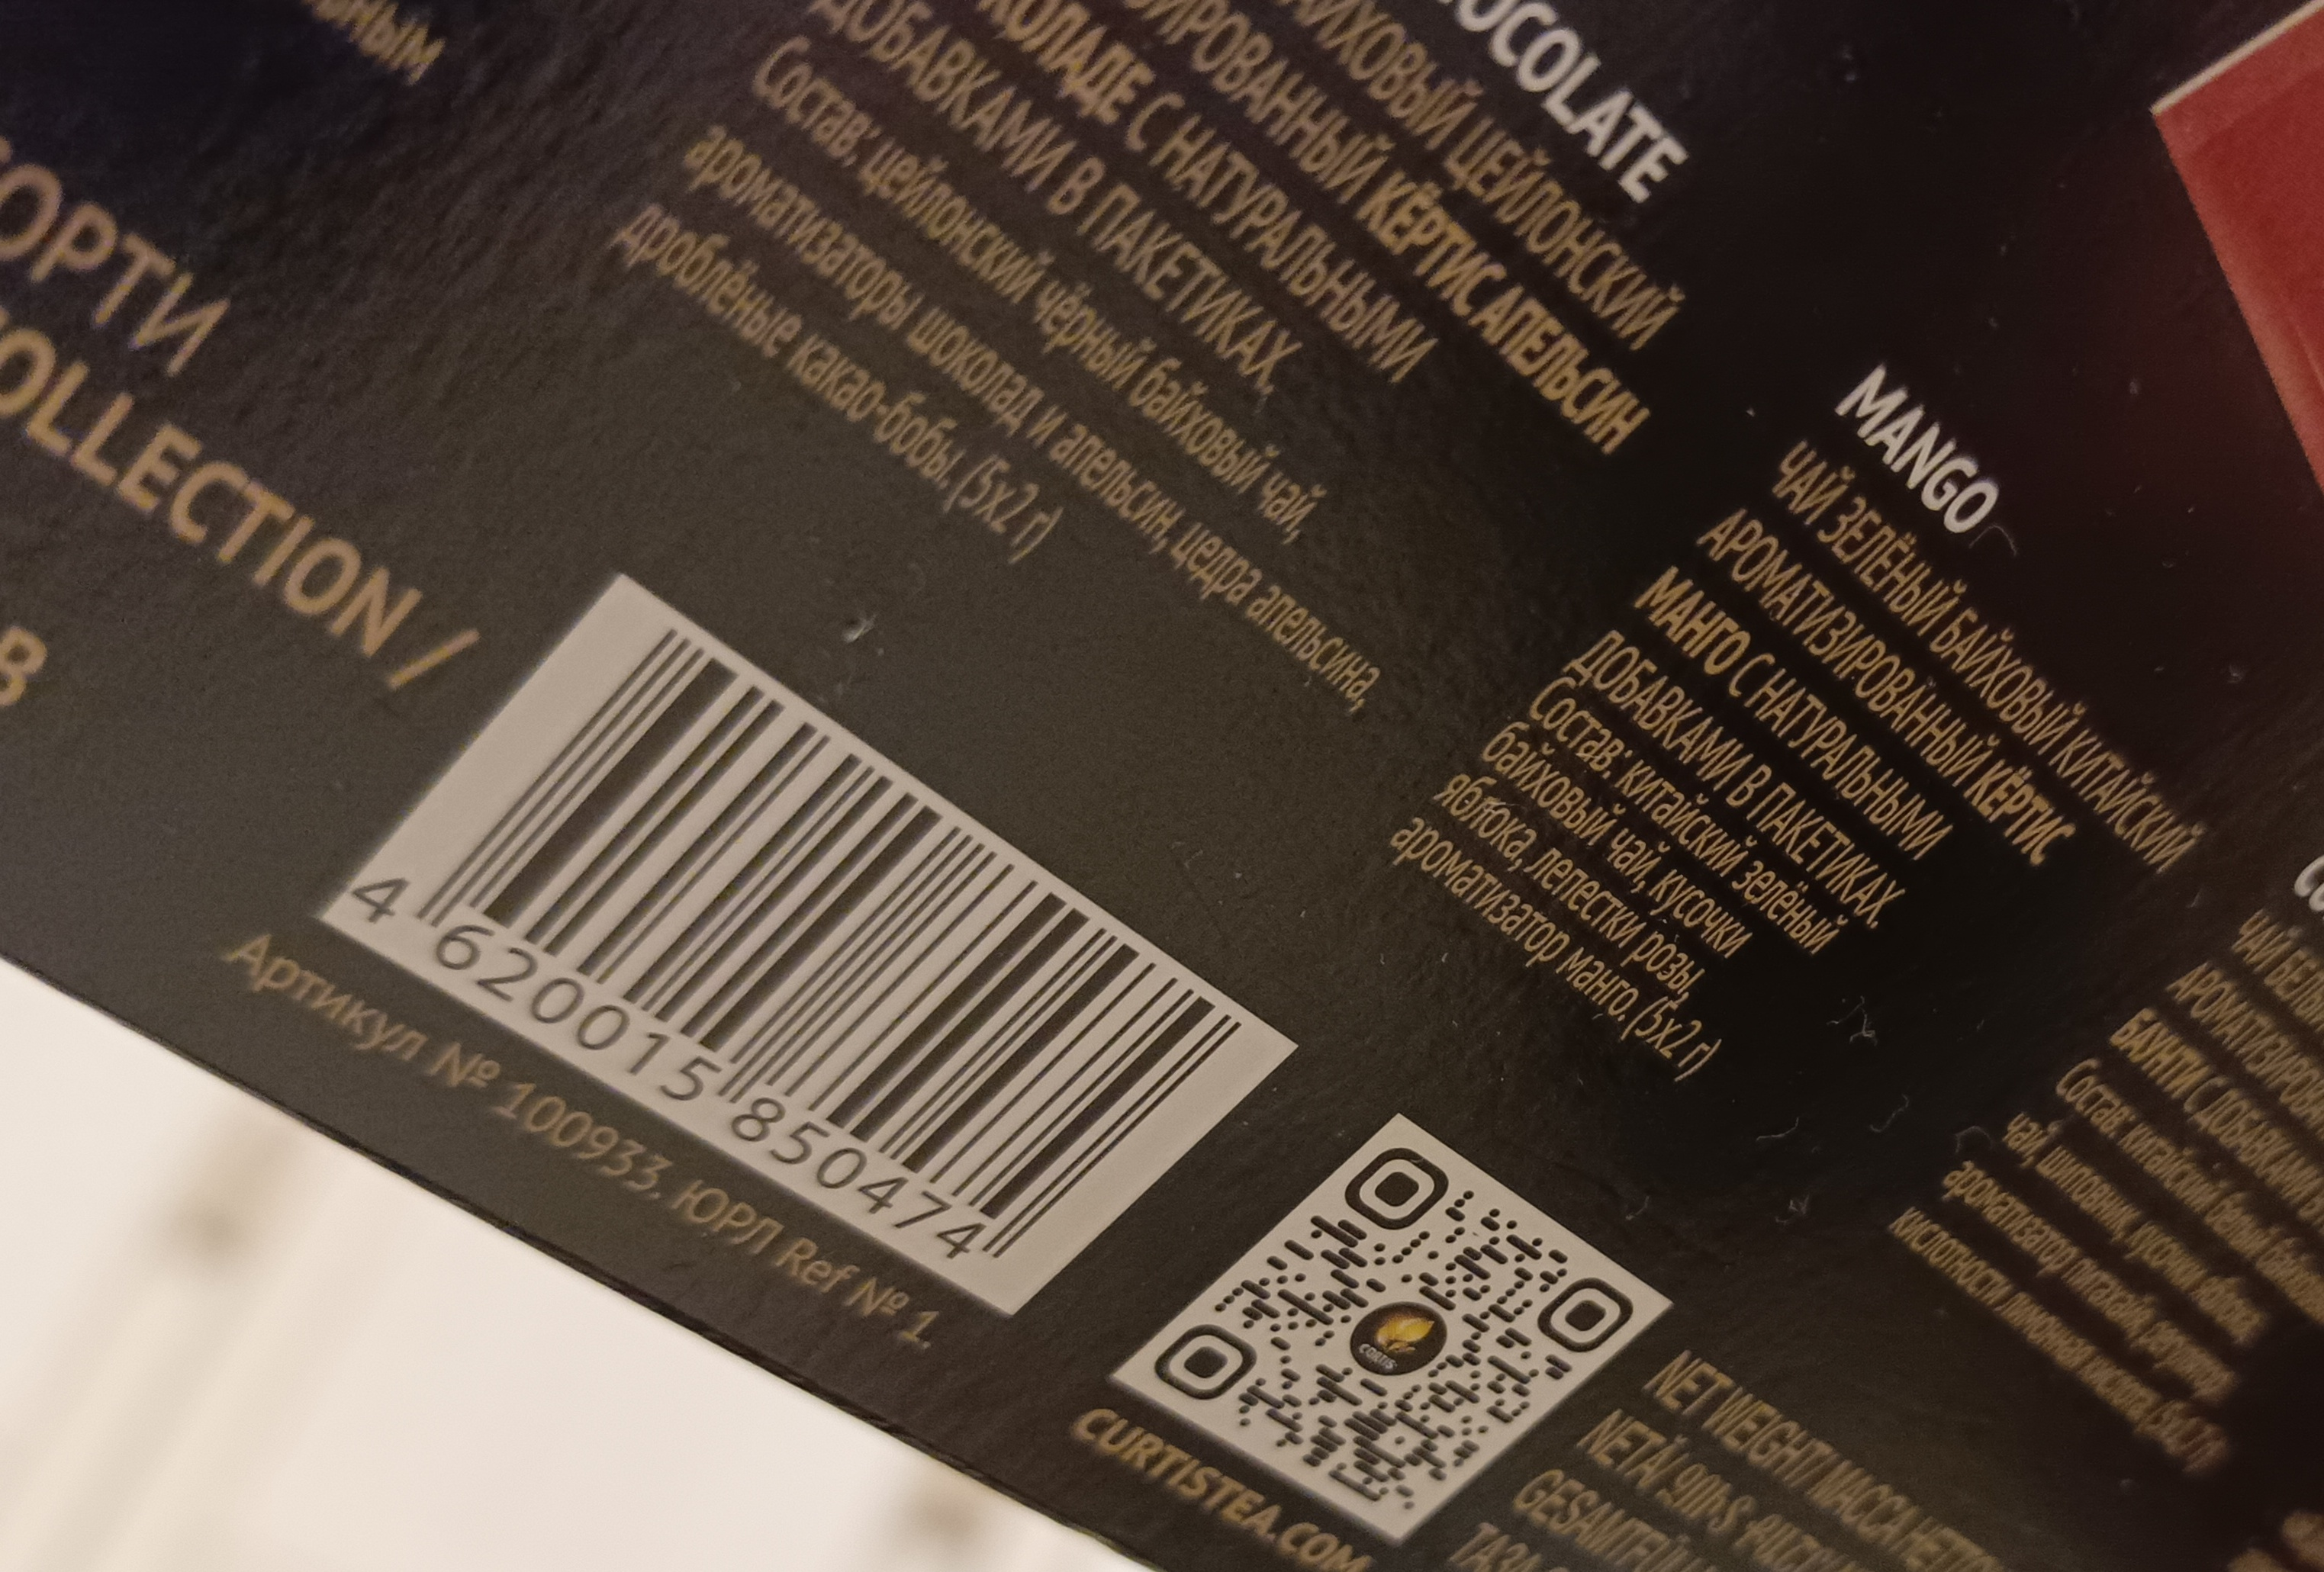1d: (437, 623, 1255, 1244)
